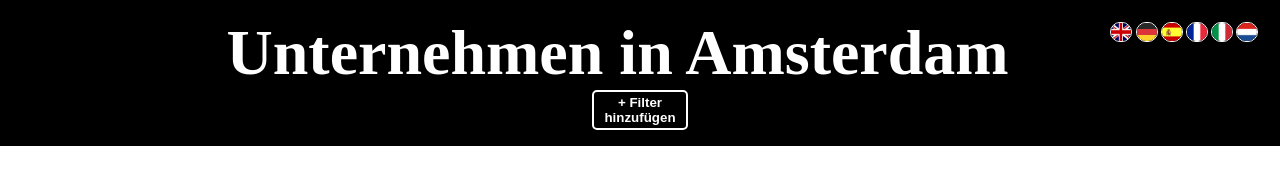
Test: NavBarNoQuerryRender.vue › renders add filter button with form
Click the button with test id "addfilter-button--no-form" at (640, 110), box top-left (592, 90), bottom-right (688, 130)
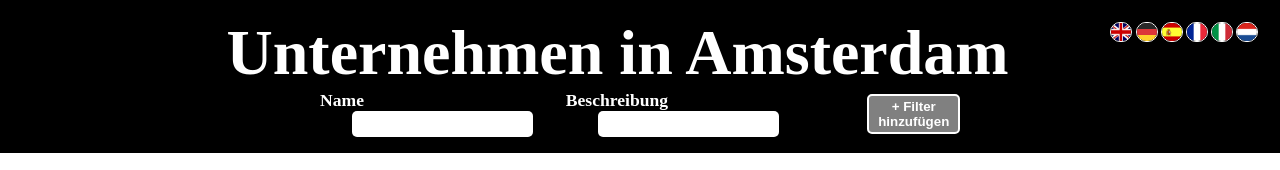
Check: the form with test id "addfilter-button--with-form" is shown, box top-left (320, 90), bottom-right (960, 137)
